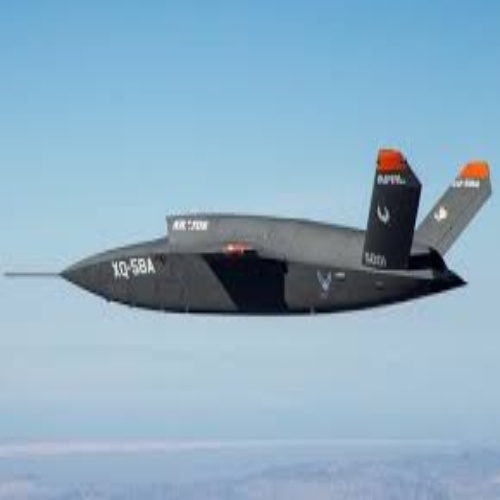uav142: (10, 148, 492, 319)
